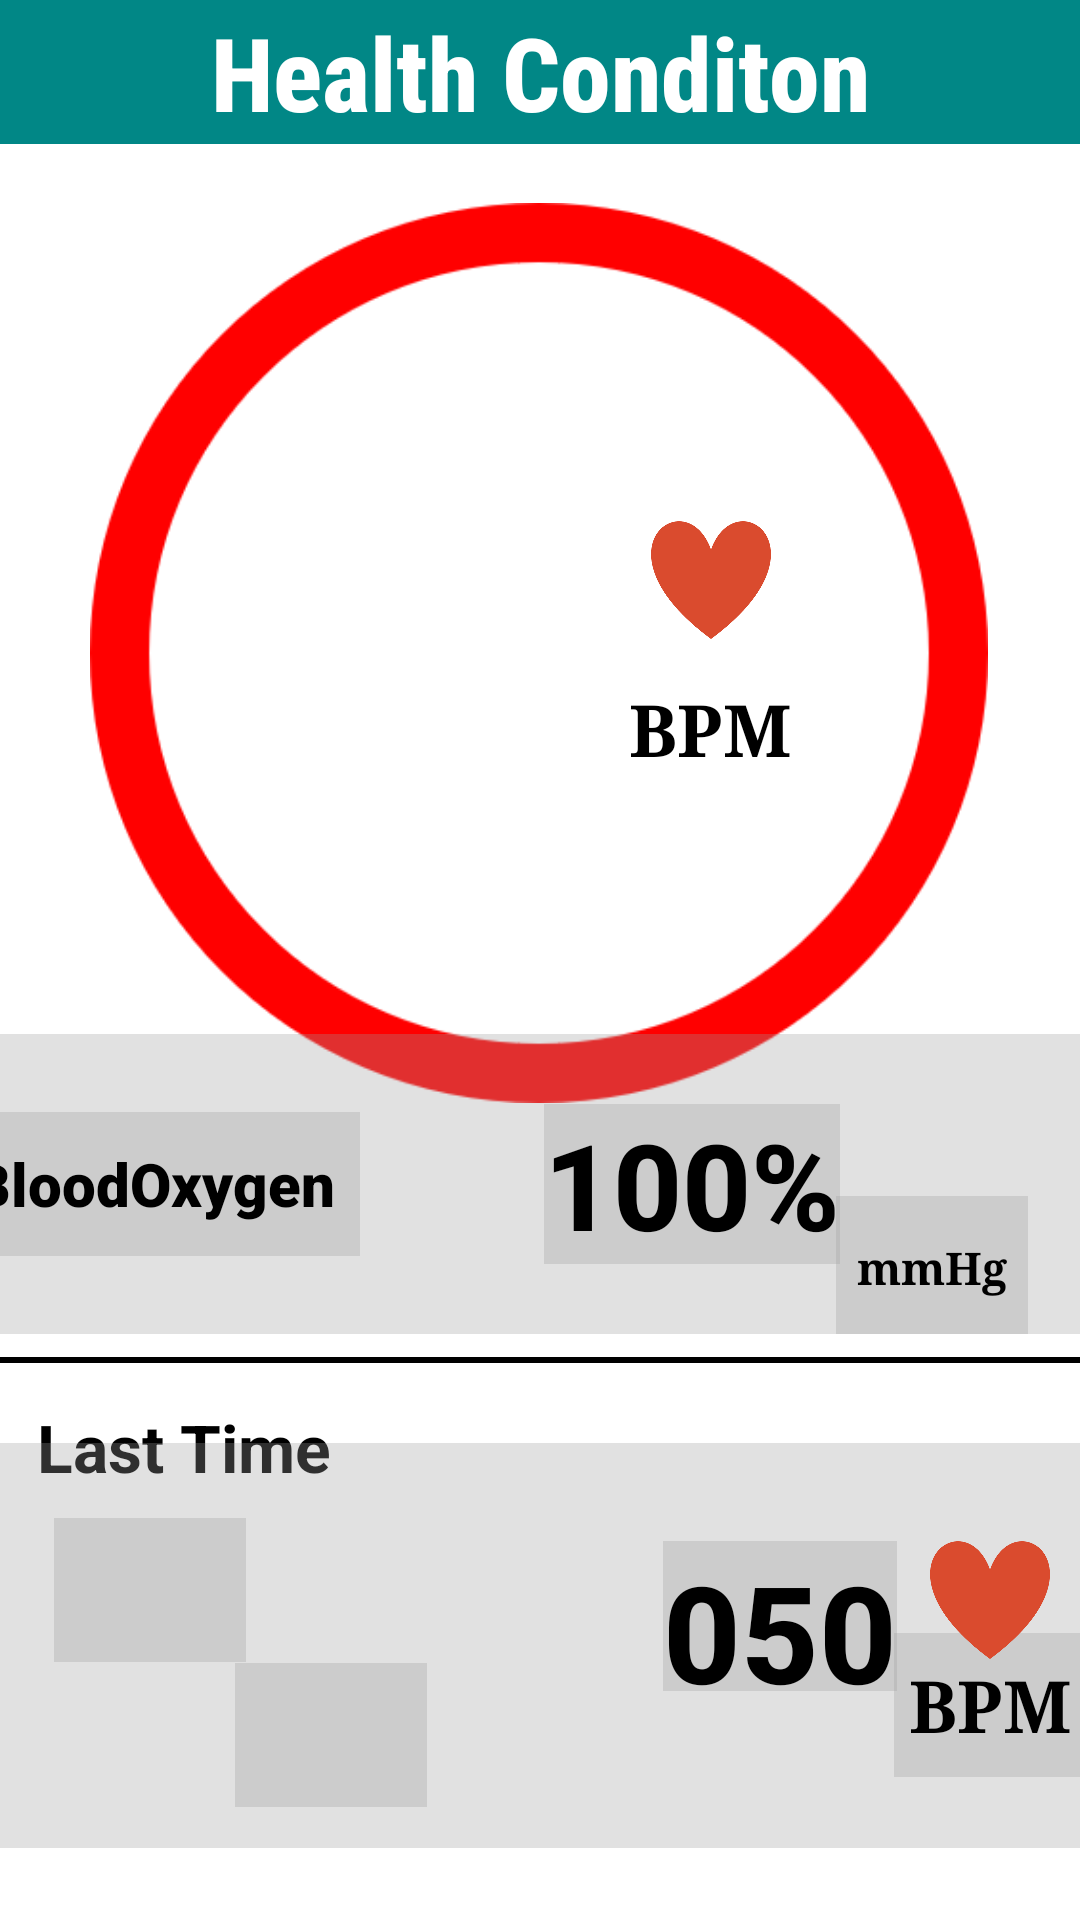

Where icons sit on this 1080x1920 app screen, as (x1, y1, x2, y2):
heart: (651, 521, 771, 639), (930, 1541, 1050, 1659)
